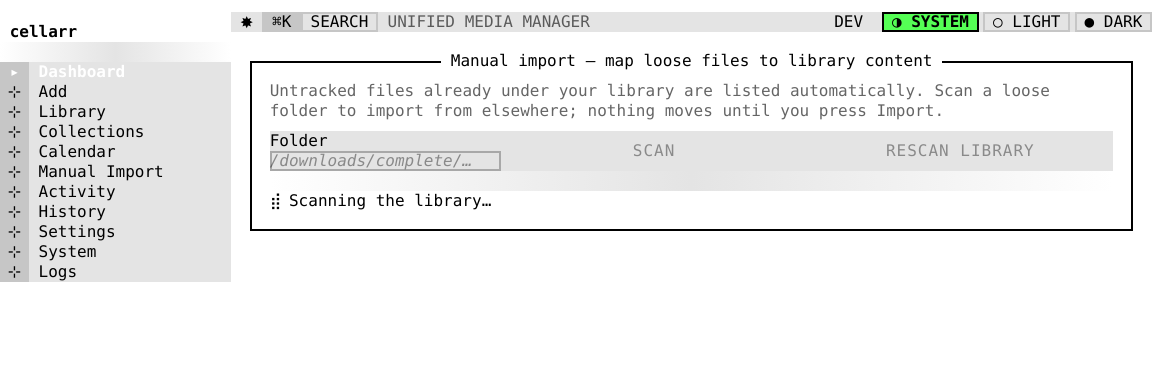
Manual Import screen › does not commit until Import is pressed (scan moves nothing)
The width and height of the screenshot is (1152, 368).
Step 1. Type "/downloads" into the field named "import-folder" → point(385, 161), box [270,151,501,171]
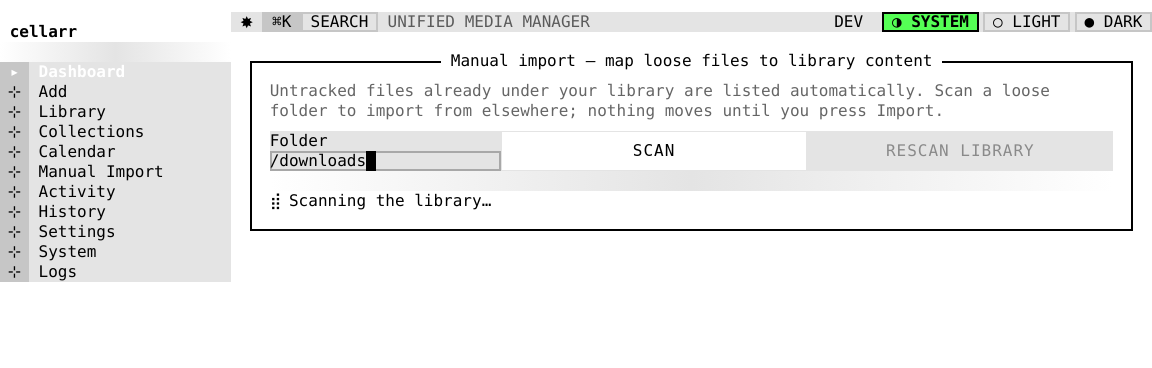
Step 2. Click the button "Scan" → point(654, 151), box [501,131,807,171]
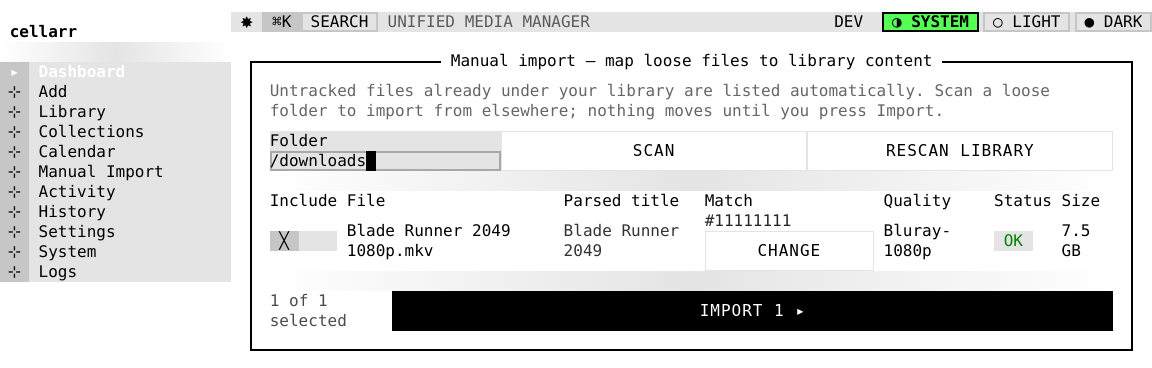
Expected: the text "Blade Runner 2049 1080p.mkv" is shown, [337,211,554,271]
